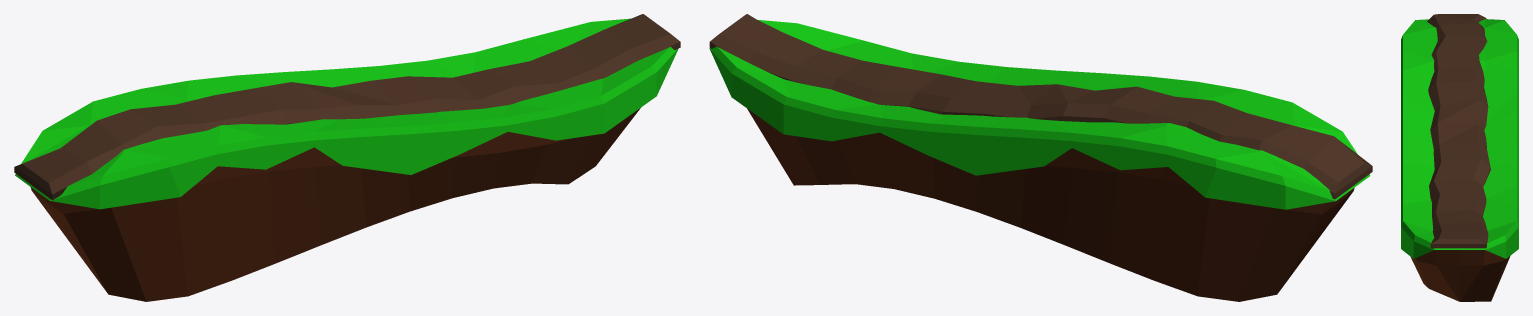
The model's file is block_wave.fbx.
The picture shows the model from 3 angles, left to right: view 1: azimuth 30°, elevation 25°; view 2: azimuth 150°, elevation 25°; view 3: azimuth 270°, elevation 25°; orthographic projection. The views are drawn at different scales.
Visible parts, largest first — view 1: block_wave; view 2: block_wave; view 3: block_wave.
Boxes of the visible parts, x1=… form: block_wave: x1=14, y1=14, x2=680, y2=301; block_wave: x1=709, y1=14, x2=1372, y2=301; block_wave: x1=1401, y1=14, x2=1518, y2=301.
Bounding box in the file's own units: 1661 × 447 × 365.
